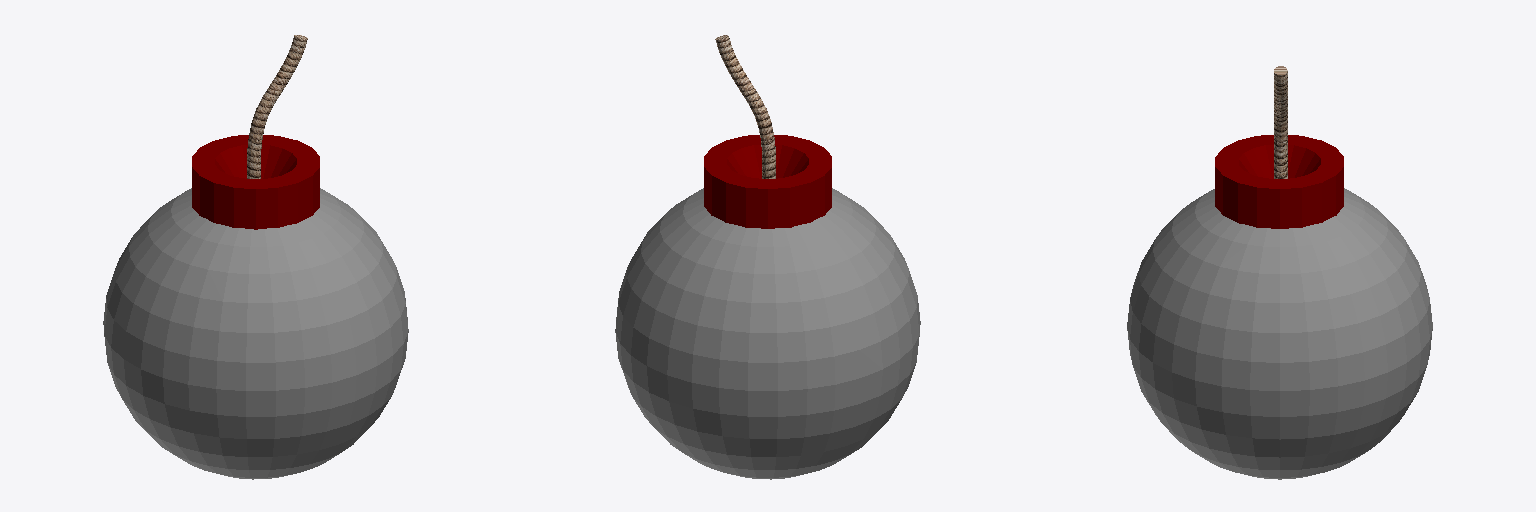
3 renders of one model, left to right at view 1: azimuth 30°, elevation 25°; view 2: azimuth 150°, elevation 25°; view 3: azimuth 270°, elevation 25°, orthographic.
Parts seen in each view (by area): view 1: Sphere001, Cylinder001, Line001; view 2: Sphere001, Cylinder001, Line001; view 3: Sphere001, Cylinder001, Line001.
Boxes of the visible parts, x1=… form: Sphere001: x1=103, y1=188, x2=408, y2=479; Cylinder001: x1=192, y1=135, x2=319, y2=229; Line001: x1=247, y1=35, x2=307, y2=178; Sphere001: x1=615, y1=188, x2=920, y2=479; Cylinder001: x1=704, y1=135, x2=831, y2=228; Line001: x1=715, y1=35, x2=775, y2=178; Sphere001: x1=1127, y1=188, x2=1432, y2=479; Cylinder001: x1=1215, y1=135, x2=1343, y2=228; Line001: x1=1274, y1=66, x2=1287, y2=178.
Bounding box in the file's own units: 24 × 36.24 × 24.
3 materials, 1 textured.